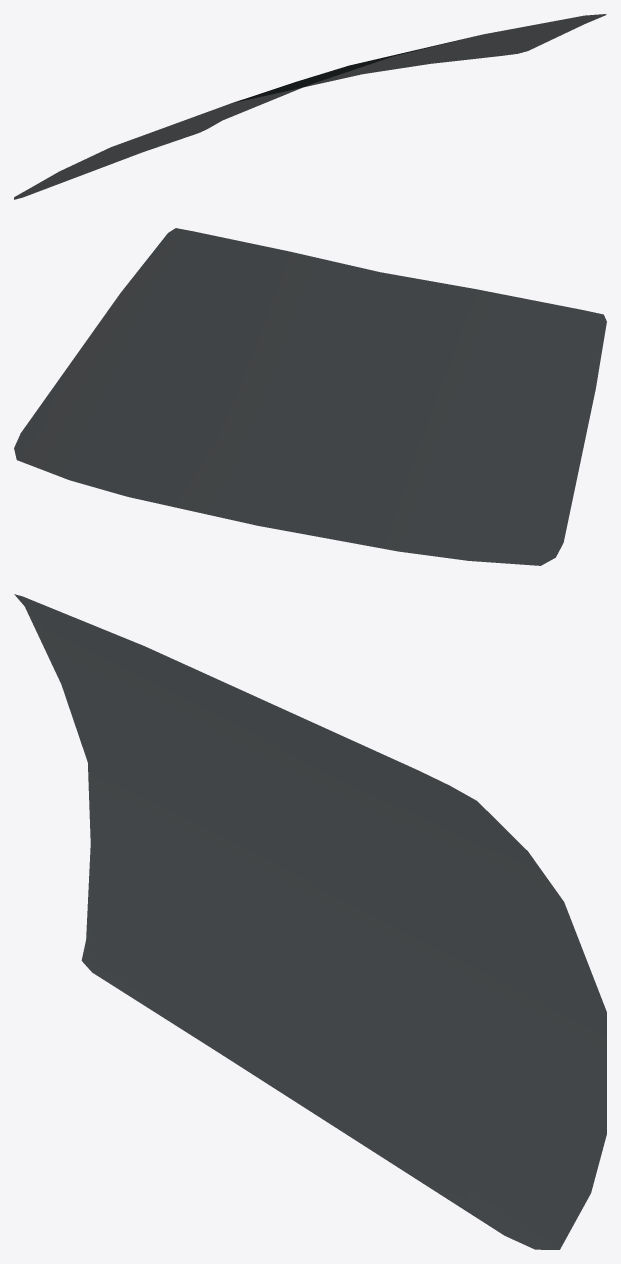
The model's file is tozzo98_windshield_ucb_lights_and_glass_transperent_0.006_lev3.glb.
3 views of the same model, one above another, from view 1: azimuth 30°, elevation 25°; view 2: azimuth 150°, elevation 25°; view 3: azimuth 270°, elevation 25° (orthographic). The views are drawn at different scales.
Visible parts, largest first — view 1: tozzo98_windshield_ucb_lights_and_glass_transperent_0.006_le; view 2: tozzo98_windshield_ucb_lights_and_glass_transperent_0.006_le; view 3: tozzo98_windshield_ucb_lights_and_glass_transperent_0.006_le.
Boxes of the visible parts, box(x1,y1,x2,y2) form: tozzo98_windshield_ucb_lights_and_glass_transperent_0.006_le: box(14, 14, 606, 199); tozzo98_windshield_ucb_lights_and_glass_transperent_0.006_le: box(14, 228, 606, 565); tozzo98_windshield_ucb_lights_and_glass_transperent_0.006_le: box(14, 594, 606, 1249).
Size of the model in its own units: 1.25 by 0.3458 by 0.6708.
1 material, 1 textured.
